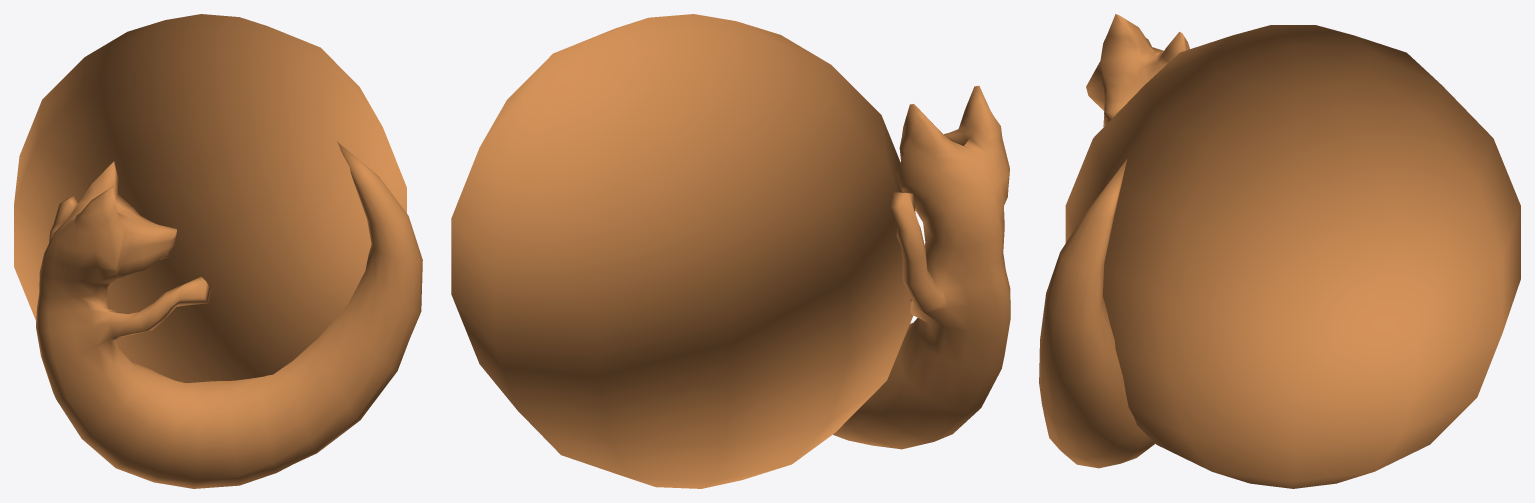
Rendered from firefox_medium_617.dae.
3 views of the same model, side by side, from view 1: azimuth 30°, elevation 25°; view 2: azimuth 150°, elevation 25°; view 3: azimuth 270°, elevation 25° (orthographic). The views are drawn at different scales.
Visible parts, largest first — view 1: Cube_002; view 2: Cube_002; view 3: Cube_002.
Boxes of the visible parts, bbox=[...] form: Cube_002: bbox=[14, 14, 422, 488]; Cube_002: bbox=[451, 14, 1010, 488]; Cube_002: bbox=[1039, 14, 1520, 488].
Bounding box in the file's own units: 2.25 × 2.06 × 2.06.
